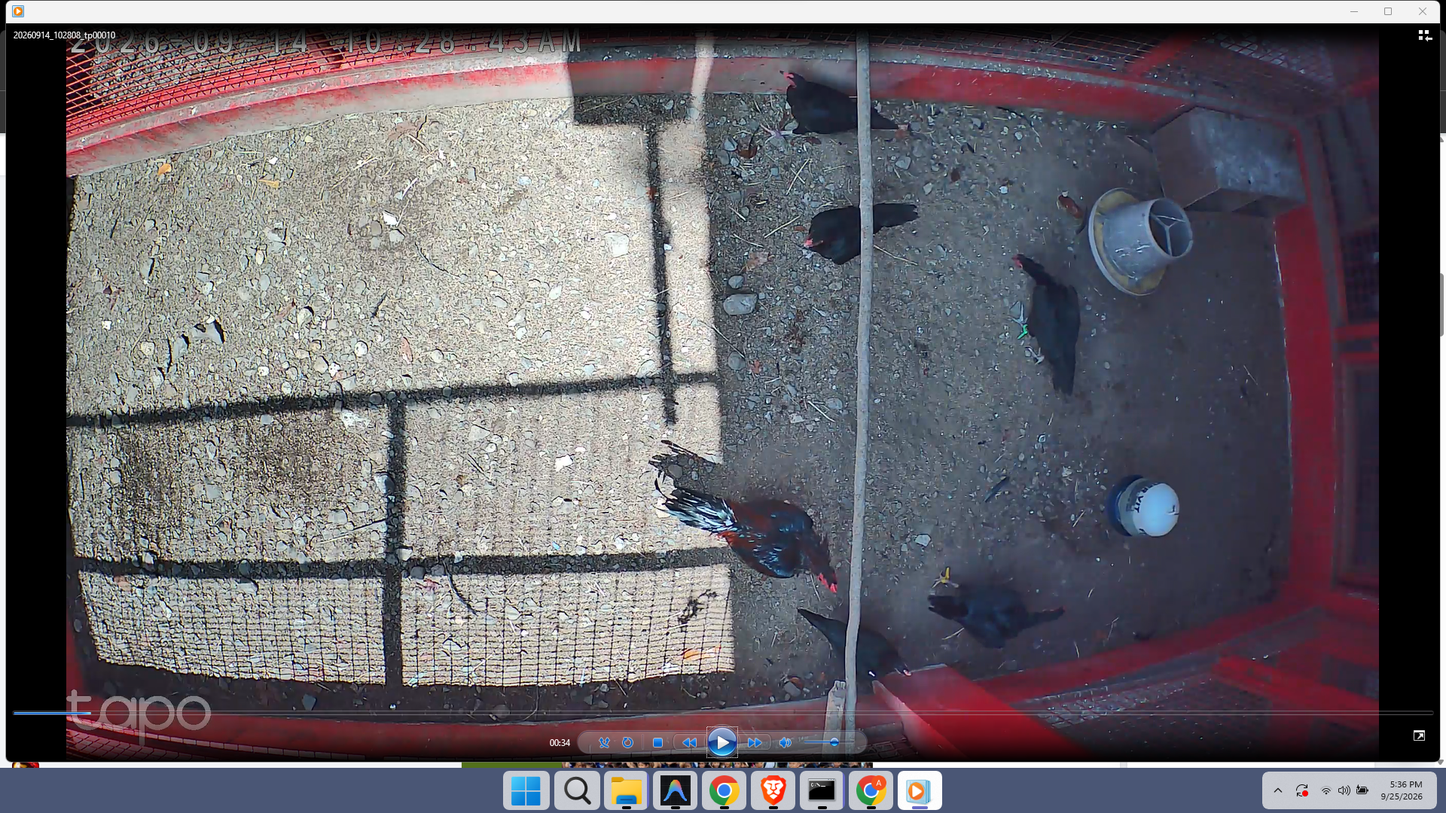Chicken: (742, 67, 907, 144), (923, 566, 1073, 650), (1000, 248, 1081, 398), (792, 604, 914, 682), (794, 197, 922, 269)
Drinker: (1103, 470, 1181, 545)
Rooster: (646, 483, 845, 602)
